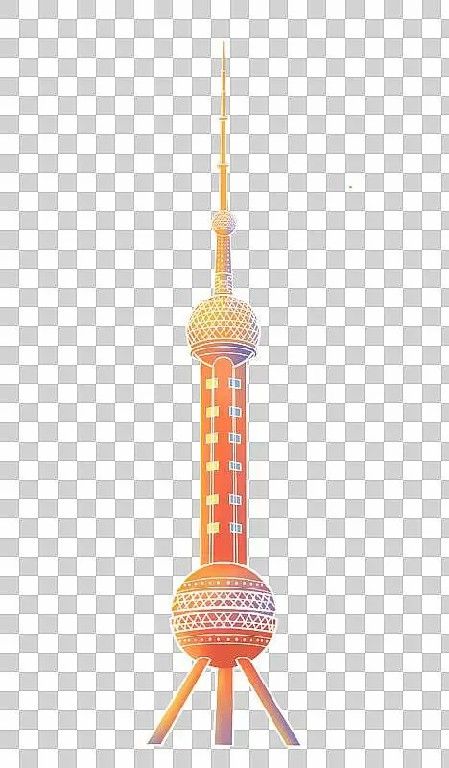Oriental: (146, 41, 301, 746)
